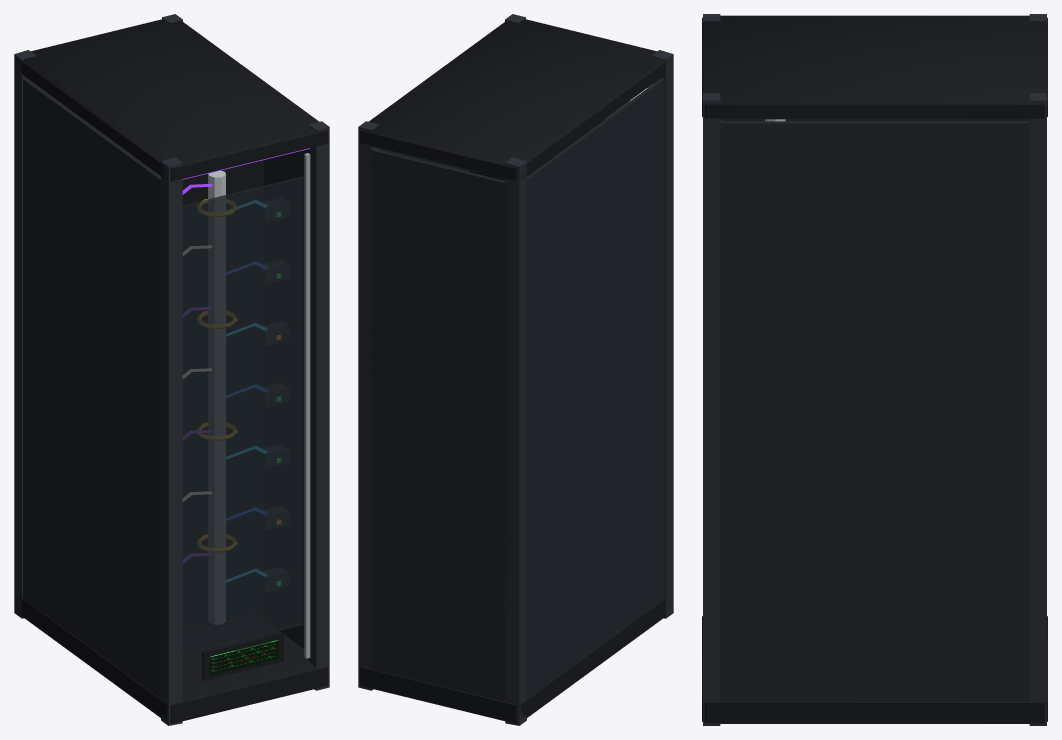
The model's file is rack_photonic_fiber_rack.glb.
3 renders of one model, left to right at view 1: azimuth 30°, elevation 25°; view 2: azimuth 150°, elevation 25°; view 3: azimuth 270°, elevation 25°, orthographic. The views are drawn at different scales.
Parts seen in each view (by area): view 1: rack_photonic_fiber_rack; view 2: rack_photonic_fiber_rack; view 3: rack_photonic_fiber_rack.
Part boxes in pixels (left/top/right/bottom): rack_photonic_fiber_rack: left=14, top=14, right=329, bottom=725; rack_photonic_fiber_rack: left=358, top=14, right=673, bottom=725; rack_photonic_fiber_rack: left=702, top=14, right=1047, bottom=725.
Bounding box in the file's own units: 0.606 × 2.01 × 1.01.
Materials: 14 (1 with a texture image).
